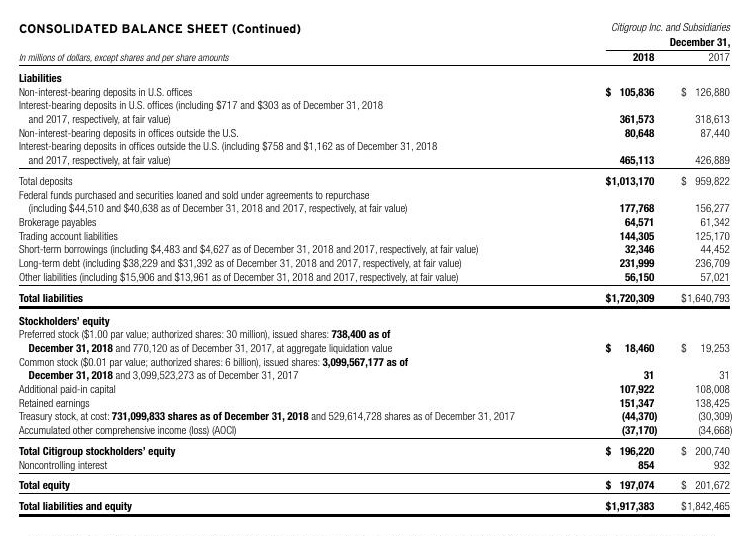table: (0, 0, 748, 536)
